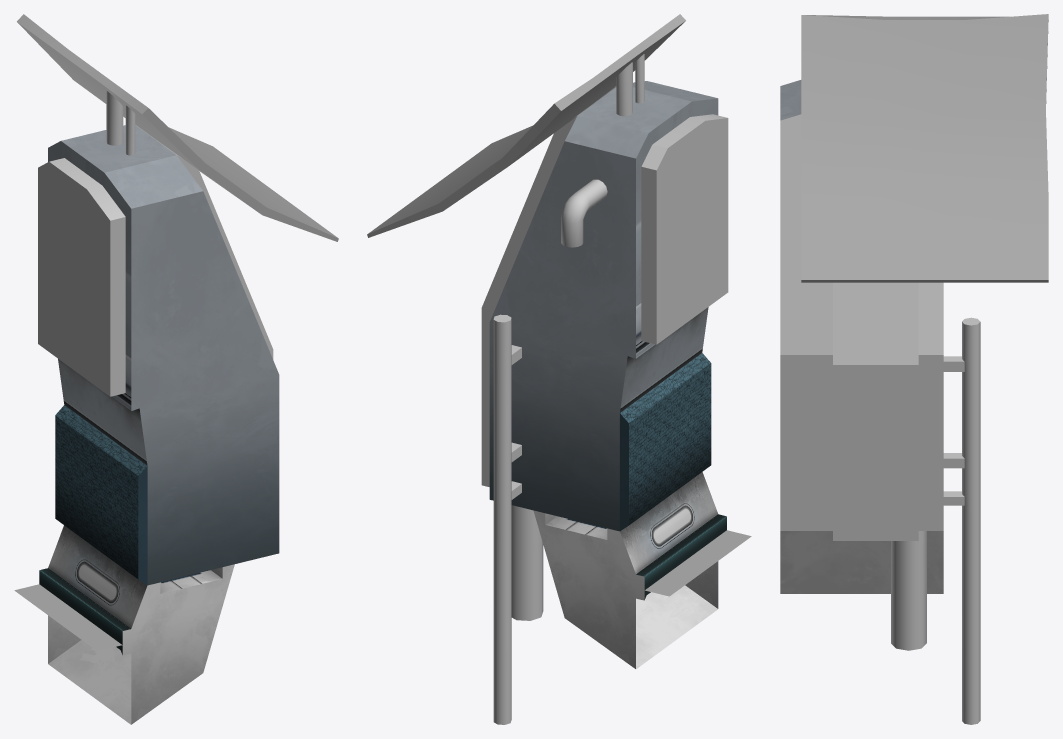
File: SpacialWall_02_ST.fbx
3 renders of one model, left to right at view 1: azimuth 30°, elevation 25°; view 2: azimuth 150°, elevation 25°; view 3: azimuth 270°, elevation 25°, orthographic.
Visible parts, largest first — view 1: SpacialWall_02; view 2: SpacialWall_02; view 3: SpacialWall_02.
Boxes of the visible parts, x1,y1,x2,y2 form: SpacialWall_02: (14, 14, 338, 724); SpacialWall_02: (367, 14, 751, 724); SpacialWall_02: (780, 14, 1048, 724).
Size of the model in its own units: 1.75 by 4.48 by 1.64.
